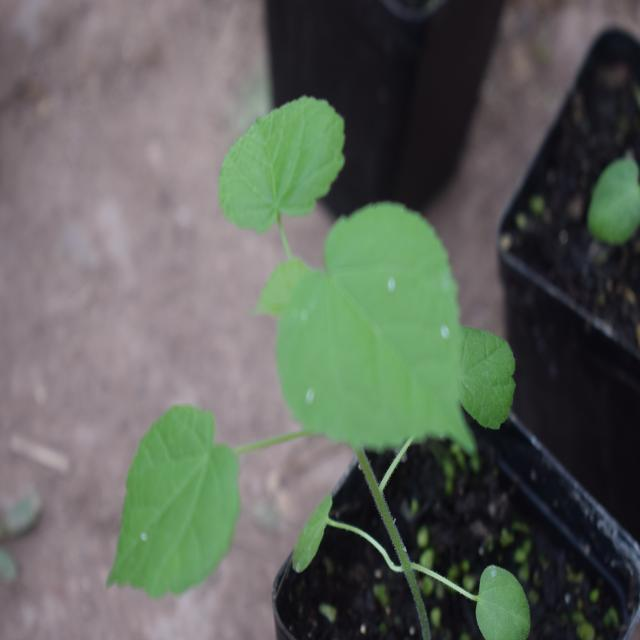abutilon theophrasti: (92, 100, 516, 584)
